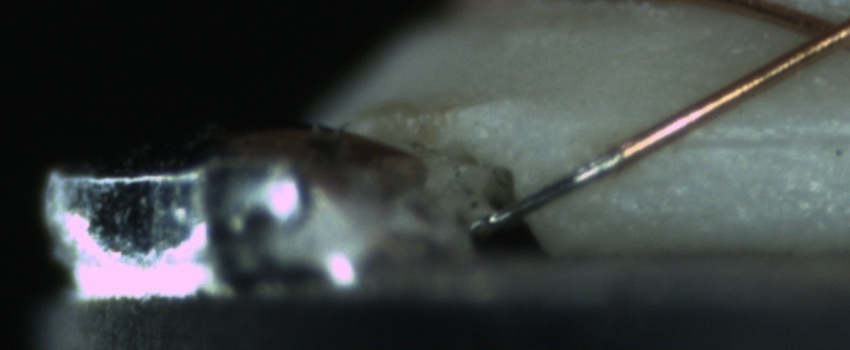CL: (781, 2, 848, 63)
DL: (673, 106, 850, 172)
TS: (479, 147, 624, 232)
